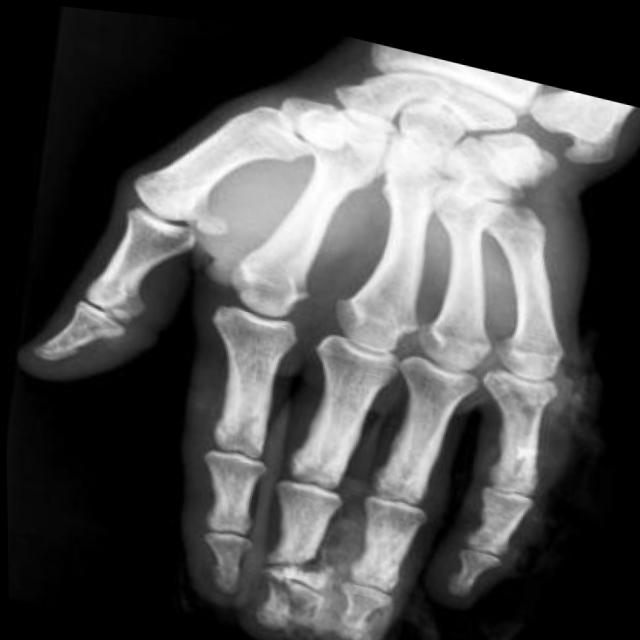fracture: (248, 538, 333, 640)
